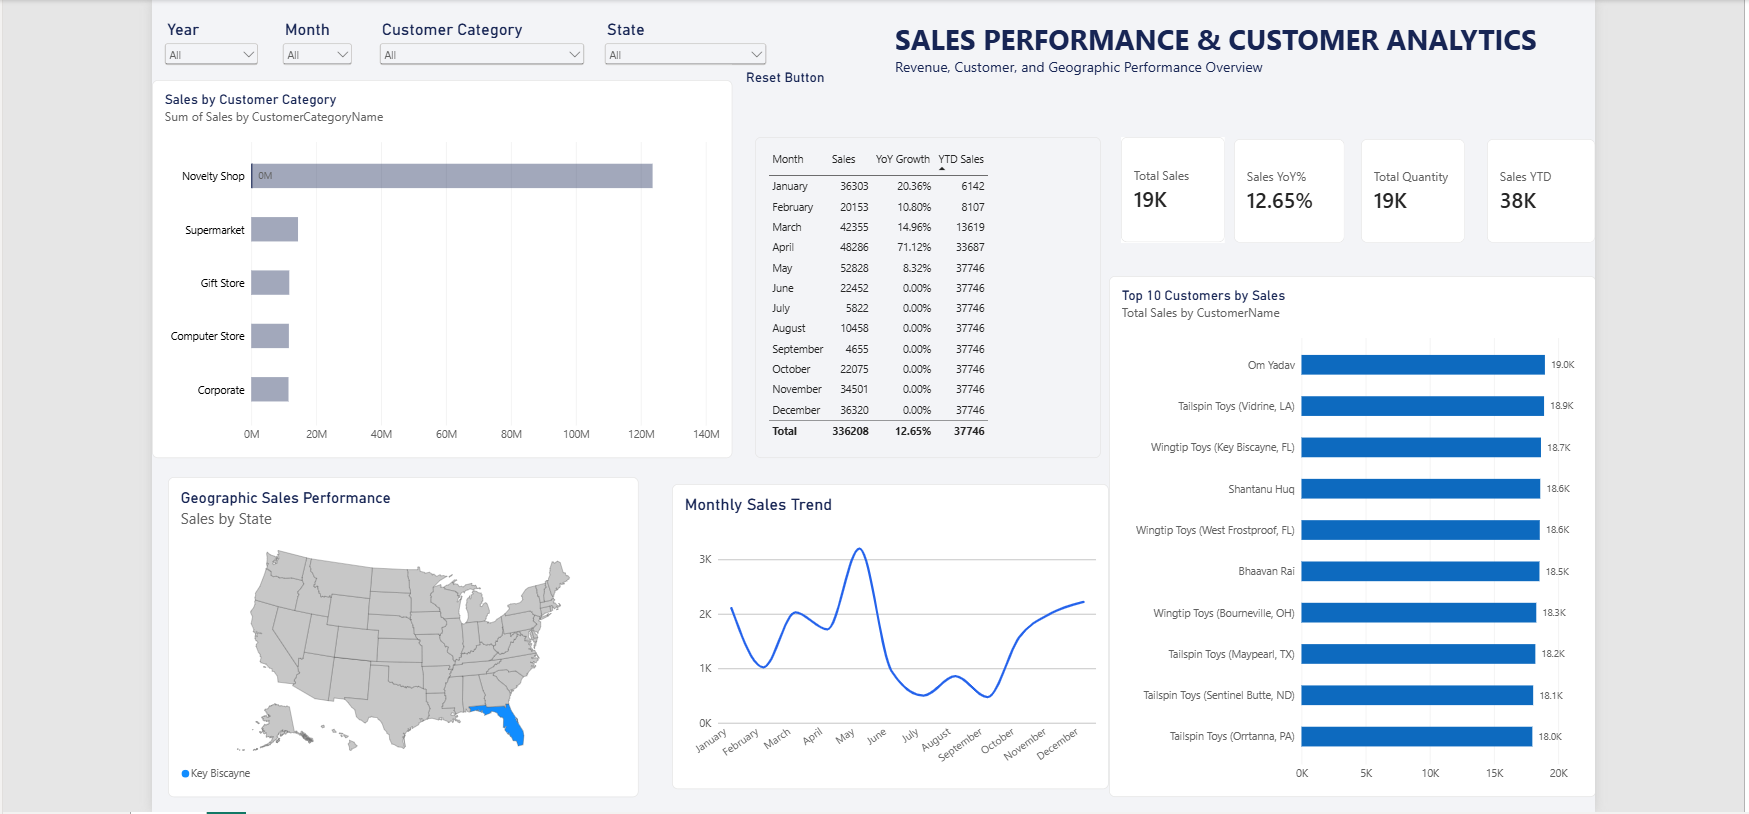

Layout of this report page (visuals, bound fields, positions):
{"tool":"powerbi","page":{"name":"Page 1","canvas":[1920,1080],"ordinal":0},"visuals":[{"type":"clusteredBarChart","title":"Sales by Customer Category","fields":{"Category":["MasterCustomer1.CustomerCategoryName"],"Y":["Sum(InvoiceData.Sales)"]},"box":[0,106.4,771.6,503],"z":0},{"type":"slicer","fields":{"Values":["InvoiceData.Date.Variation.Date Hierarchy.Month"]},"box":[168.9,26.6,102.4,79.8],"z":1000},{"type":"tableEx","fields":{"Values":["InvoiceData.Date.Variation.Date Hierarchy.Month","Sum(InvoiceData.Sales)","InvoiceData.Sum of Sales YoY%","InvoiceData.Sum of Sales YTD"]},"box":[802,182.2,460.2,426.9],"z":2000},{"type":"shapeMap","title":"Geographic Sales Performance","fields":{"Category":["MasterCustomer1.CityProvince.2"],"Series":["MasterCustomer1.CityProvince.1"],"Value":["Sum(InvoiceData.Sales)"]},"box":[21.3,634.4,626.5,425.6],"z":3000},{"type":"lineChart","title":"Monthly Sales Trend","fields":{"Category":["InvoiceData.Date.Variation.Date Hierarchy.Month"],"Y":["InvoiceData.Total Sales"]},"box":[691.6,643.7,581.2,405.7],"z":4000},{"type":"textbox","box":[988.7,26.5,884.1,142.9],"z":6000},{"type":"cardVisual","fields":{"Data":["InvoiceData.Total Sales"]},"box":[1288.8,182.2,138.3,141],"z":6001},{"type":"cardVisual","fields":{"Data":["InvoiceData.Total Quantity"]},"box":[1608,184.9,138.3,138.3],"z":6002},{"type":"cardVisual","fields":{"Data":["InvoiceData.Sum of Sales YoY%"]},"box":[1439.1,184.9,147.6,138.3],"z":6003},{"type":"cardVisual","fields":{"Data":["InvoiceData.Sum of Sales YTD"]},"box":[1775.6,184.9,145,138.3],"z":6004},{"type":"barChart","title":"Top 10 Customers by Sales","fields":{"Category":["MasterCustomer1.CustomerName"],"Y":["InvoiceData.Total Sales"]},"box":[1272.9,367.1,647.7,693],"z":6005},{"type":"slicer","fields":{"Values":["InvoiceData.Date.Variation.Date Hierarchy.Year"]},"box":[12,26.6,134.3,79.8],"z":6006},{"type":"slicer","fields":{"Values":["MasterCustomer1.CustomerCategoryName"]},"box":[297.9,26.6,282,79.8],"z":6007},{"type":"slicer","fields":{"Values":["MasterCustomer1.CityProvince.2"]},"box":[597.2,26.6,224.8,79.8],"z":6008},{"type":"actionButton","title":"Reset Button","box":[789.8,91.4,110.5,28],"z":6009}]}

Visuals, with their boxes on the page's 1920x1080 design canvas (x1, y1, x2, y2). These are canvas units, not pixel positions in the 1749x814 screenshot, which may show the page scaled, cropped or inside an application window:
"Sales by Customer Category" clusteredBarChart: {"left": 0, "top": 106, "right": 772, "bottom": 609}
slicer - InvoiceData.Date.Variation.Date Hierarchy.Month: {"left": 169, "top": 27, "right": 271, "bottom": 106}
tableEx - InvoiceData.Date.Variation.Date Hierarchy.Month x Sum(InvoiceData.Sales): {"left": 802, "top": 182, "right": 1262, "bottom": 609}
"Geographic Sales Performance" shapeMap: {"left": 21, "top": 634, "right": 648, "bottom": 1060}
"Monthly Sales Trend" lineChart: {"left": 692, "top": 644, "right": 1273, "bottom": 1049}
textbox: {"left": 989, "top": 26, "right": 1873, "bottom": 169}
cardVisual - InvoiceData.Total Sales: {"left": 1289, "top": 182, "right": 1427, "bottom": 323}
cardVisual - InvoiceData.Total Quantity: {"left": 1608, "top": 185, "right": 1746, "bottom": 323}
cardVisual - InvoiceData.Sum of Sales YoY%: {"left": 1439, "top": 185, "right": 1587, "bottom": 323}
cardVisual - InvoiceData.Sum of Sales YTD: {"left": 1776, "top": 185, "right": 1921, "bottom": 323}
"Top 10 Customers by Sales" barChart: {"left": 1273, "top": 367, "right": 1921, "bottom": 1060}
slicer - InvoiceData.Date.Variation.Date Hierarchy.Year: {"left": 12, "top": 27, "right": 146, "bottom": 106}
slicer - MasterCustomer1.CustomerCategoryName: {"left": 298, "top": 27, "right": 580, "bottom": 106}
slicer - MasterCustomer1.CityProvince.2: {"left": 597, "top": 27, "right": 822, "bottom": 106}
"Reset Button" actionButton: {"left": 790, "top": 91, "right": 900, "bottom": 119}
